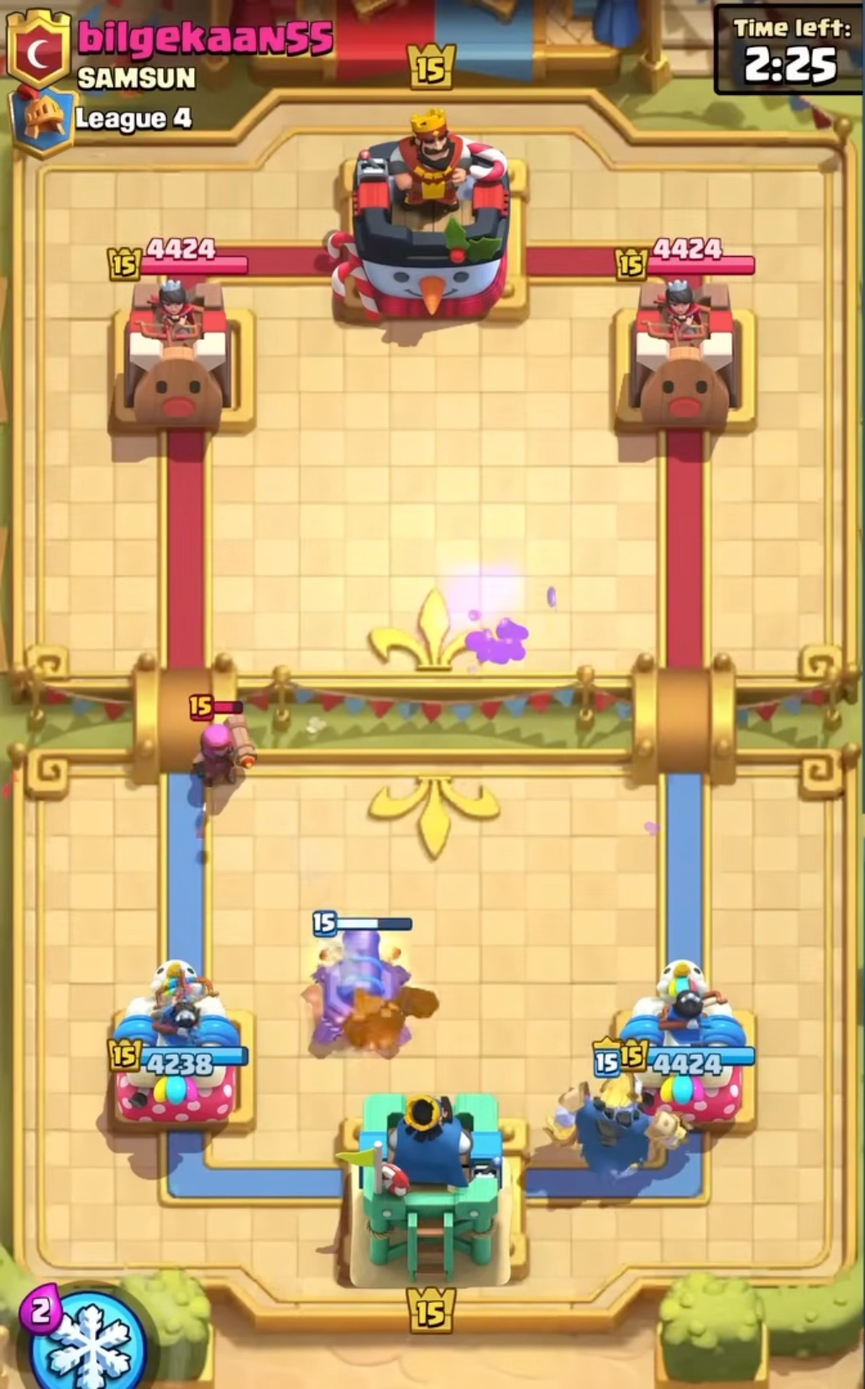cannon: (300, 901, 443, 1068)
hero-ice-golem: (535, 1035, 692, 1200)
